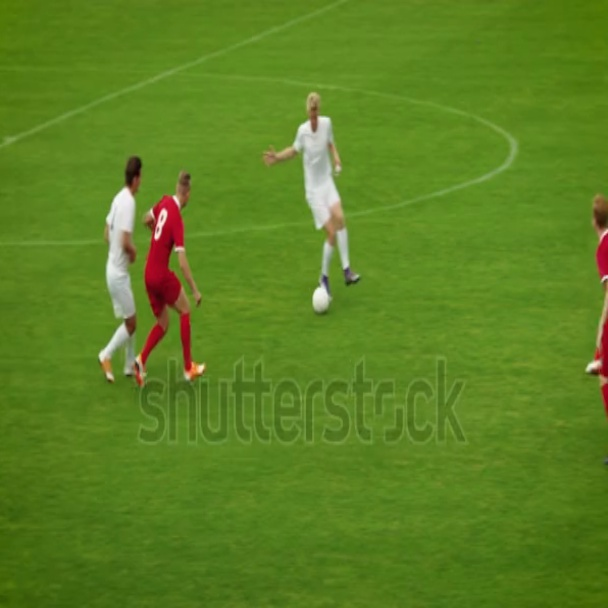ball: (314, 283, 332, 319)
